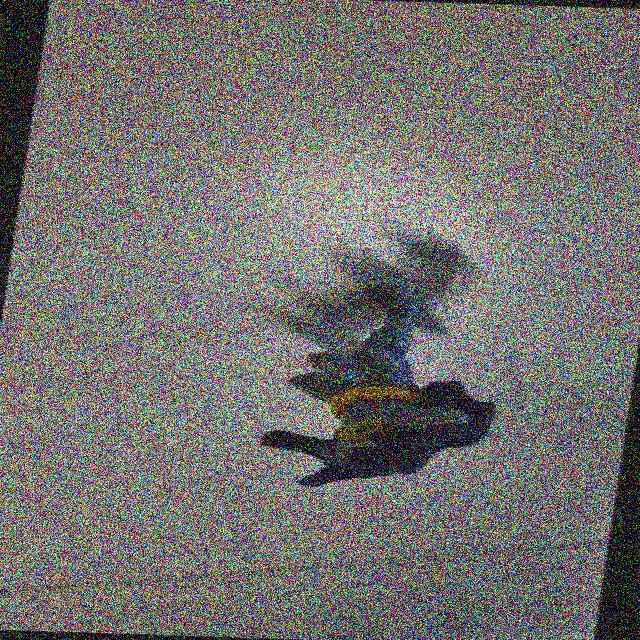Batman: (209, 247, 546, 505)
